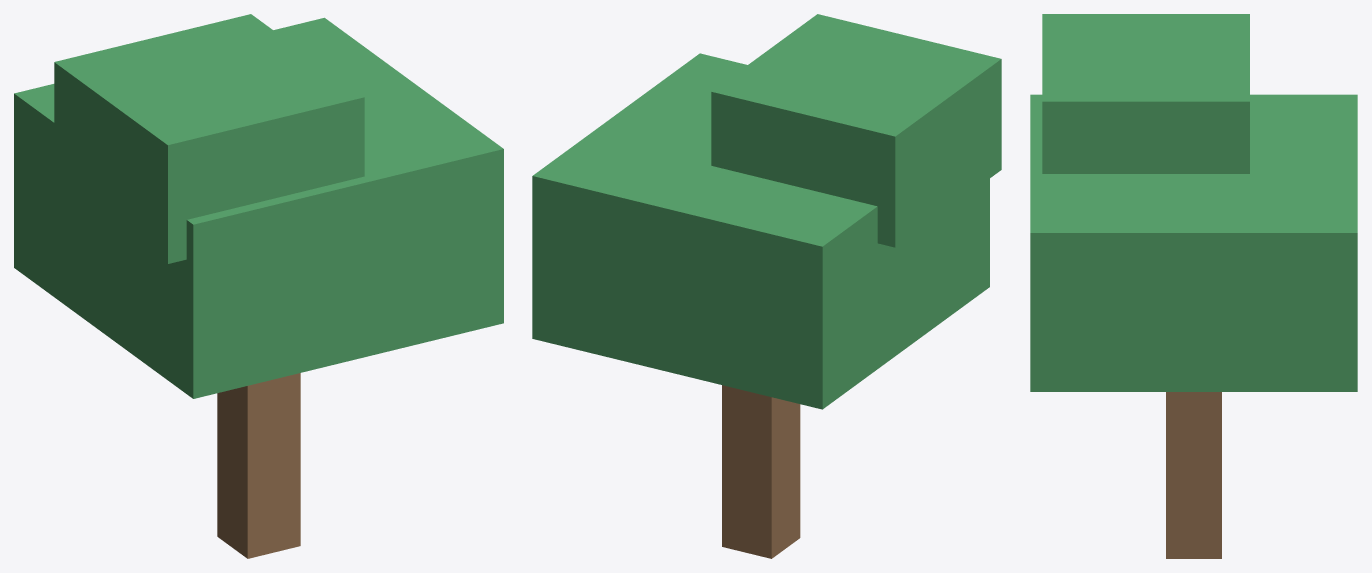
The model's file is voxel-shanghai-tree.gltf.
3 renders of one model, left to right at view 1: azimuth 30°, elevation 25°; view 2: azimuth 150°, elevation 25°; view 3: azimuth 270°, elevation 25°, orthographic. The views are drawn at different scales.
Bounding box in the file's own units: 0.87 × 1.26 × 0.82.
